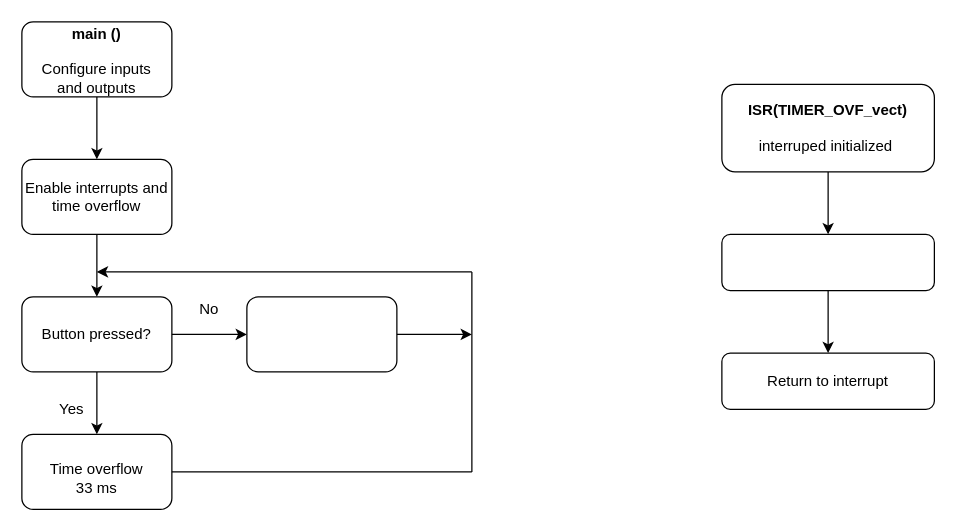
This 956x531 diagram has some shape labels left out. The centre of each missing label's shape, as x and y in pixels:
Time overflow 262 ms: (x=321, y=334)
Toggle LEDs: (x=827, y=262)
